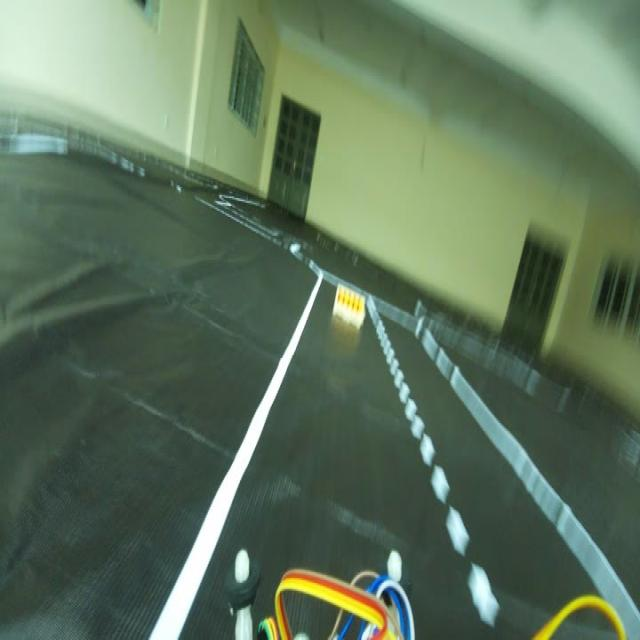roadblock: (332, 274, 367, 331)
